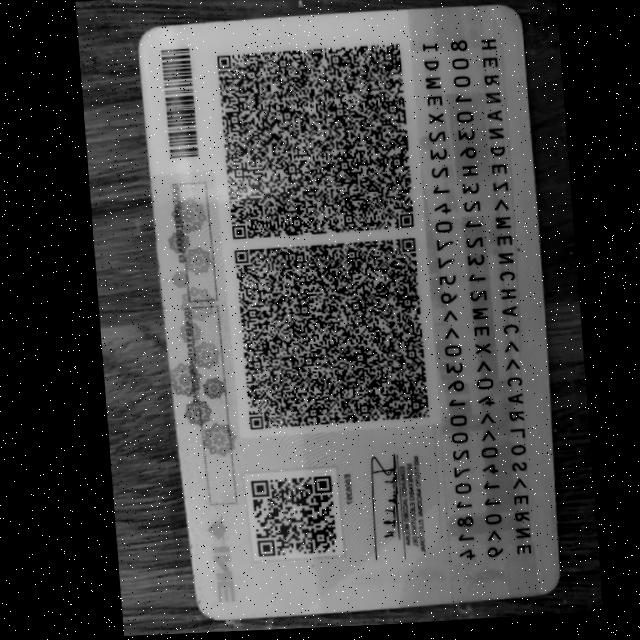card: (140, 4, 557, 619)
